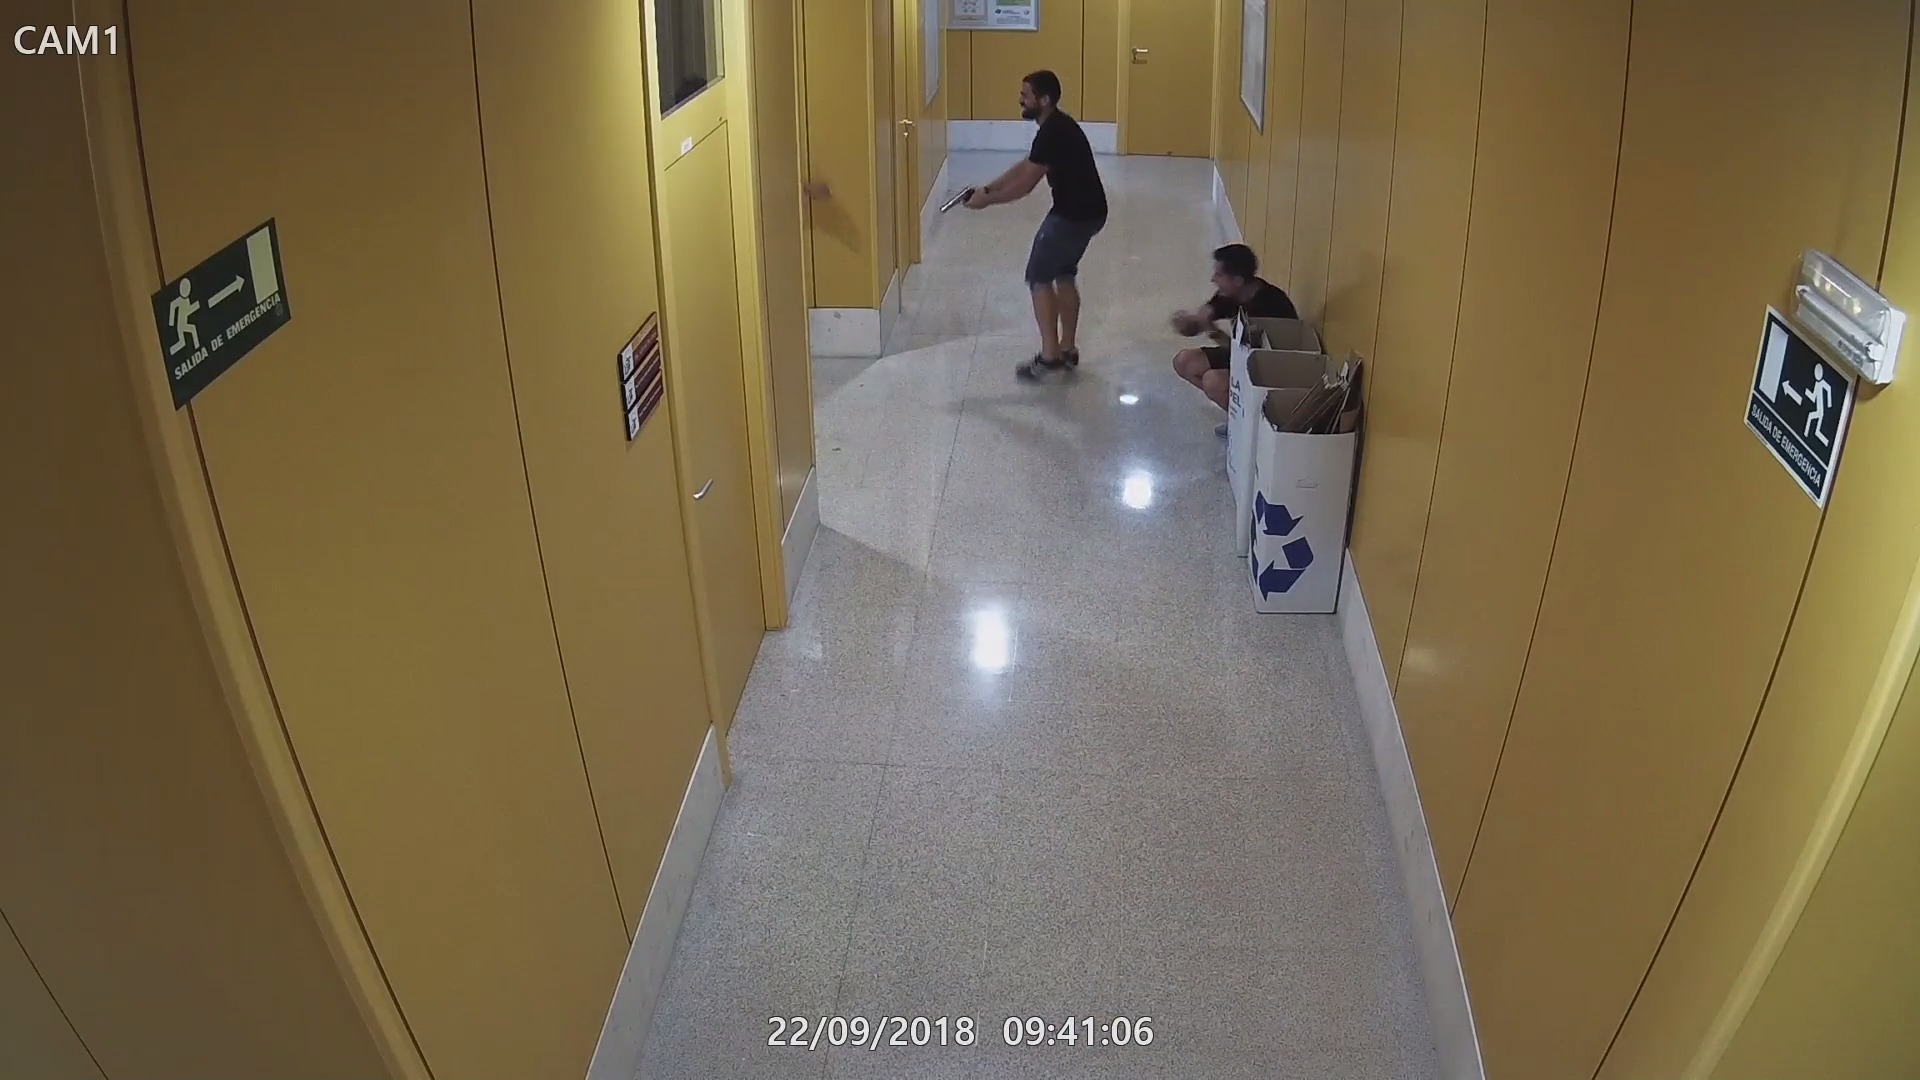Handgun: (938, 173, 990, 220)
